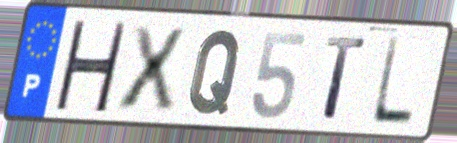5: (248, 29, 309, 122)
H: (51, 18, 130, 116)
L: (367, 34, 418, 129)
Q: (185, 27, 245, 117)
T: (321, 33, 369, 123)
X: (115, 23, 189, 113)
